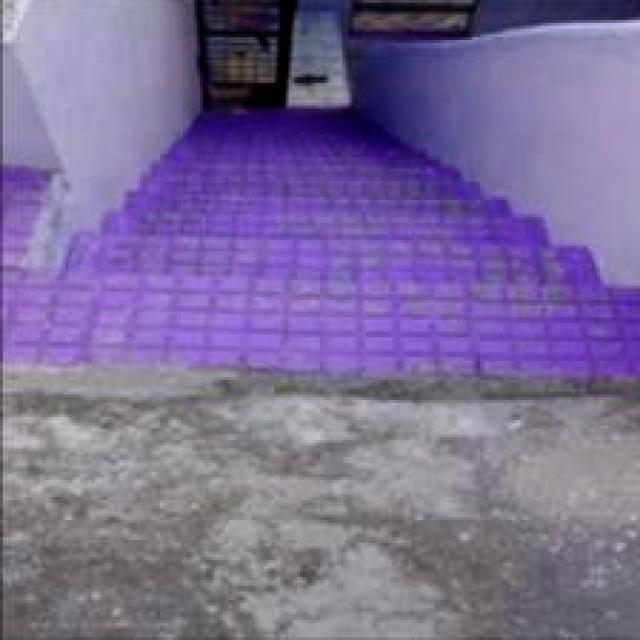downstair: (104, 167, 521, 347)
